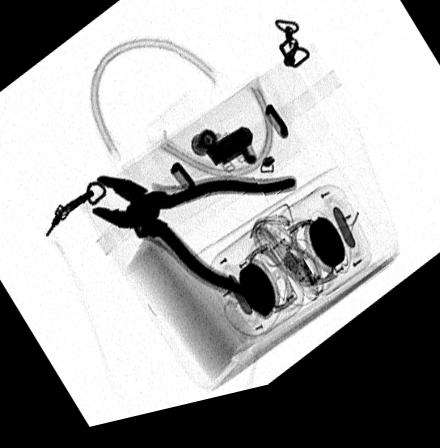Pliers: (91, 179, 298, 318)
